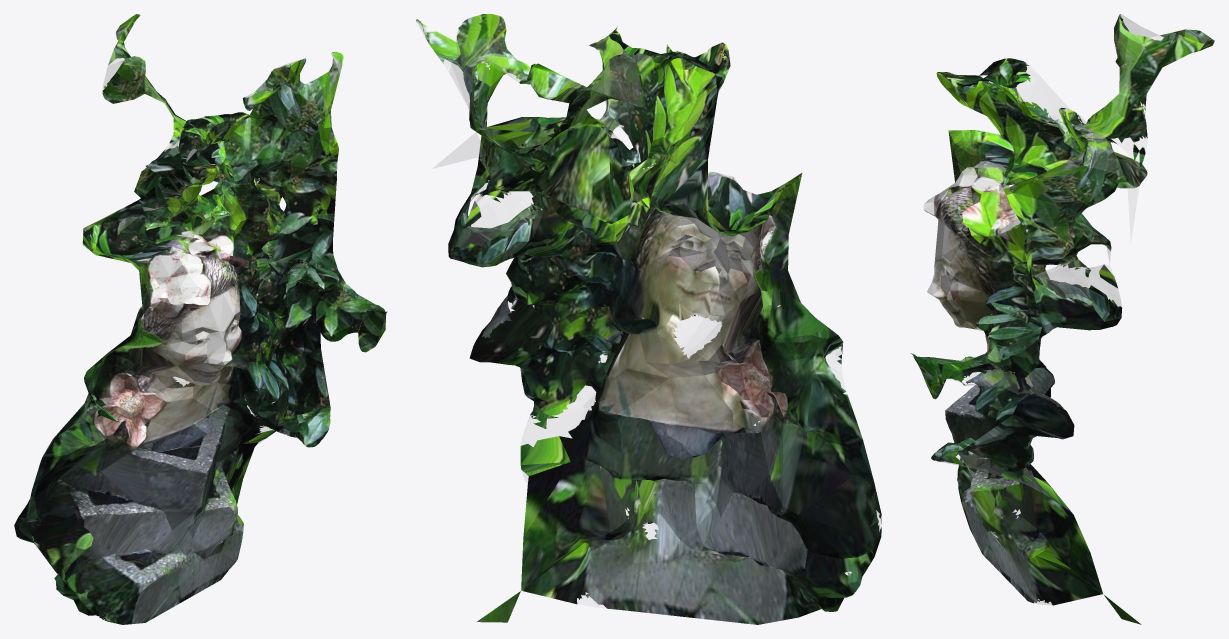
File: groteKop.glb
3 renders of one model, left to right at view 1: azimuth 30°, elevation 25°; view 2: azimuth 150°, elevation 25°; view 3: azimuth 270°, elevation 25°, orthographic. The views are drawn at different scales.
Parts seen in each view (by area): view 1: groteKop; view 2: groteKop; view 3: groteKop.
Boxes of the visible parts, x1,y1,x2,y2 form: groteKop: [14, 14, 387, 624]; groteKop: [416, 14, 881, 624]; groteKop: [910, 14, 1214, 624].
Size of the model in its own units: 13.55 by 18.72 by 9.04.
Materials: 2 (2 with a texture image).
